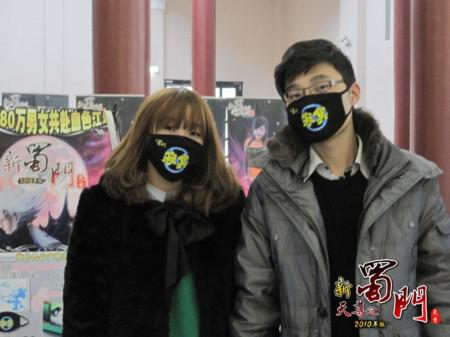OK: (143, 110, 212, 179), (286, 71, 353, 141)
